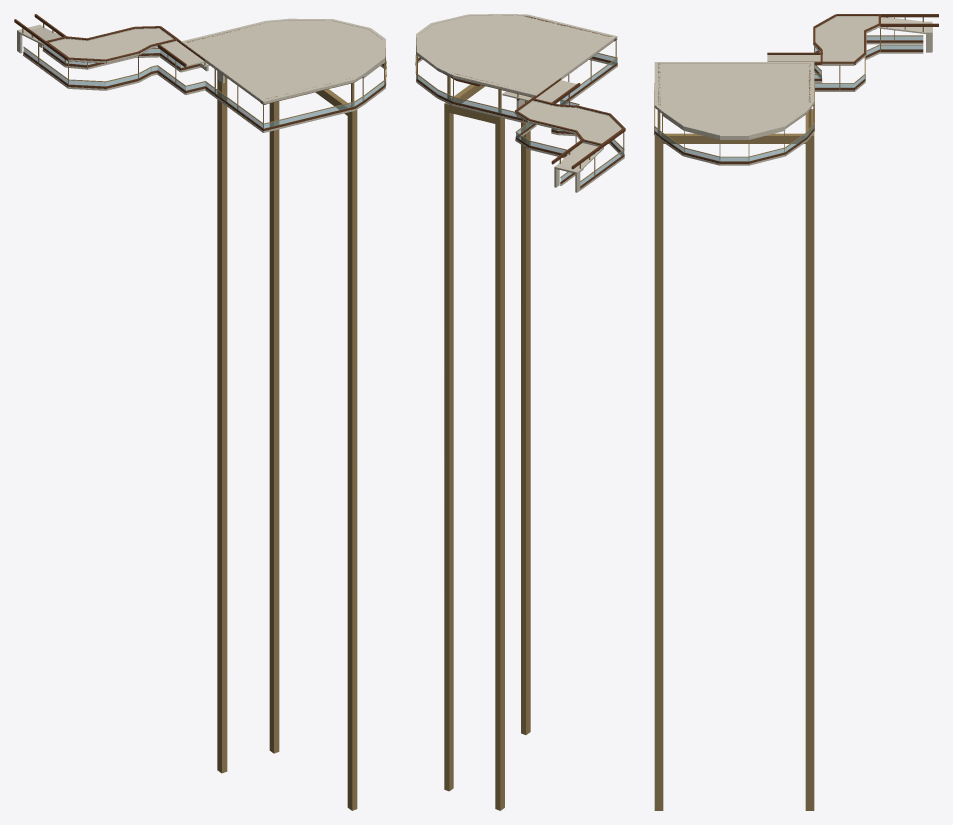
The model's file is AST-RES-006.glb.
3 renders of one model, left to right at view 1: azimuth 30°, elevation 25°; view 2: azimuth 150°, elevation 25°; view 3: azimuth 270°, elevation 25°, orthographic. The views are drawn at different scales.
Parts seen in each view (by area): view 1: CR_Batch_royalty_ivory_enamel, CR_Batch_D17_RoyaltyPier_Aft_champagne_metal, CR_Batch_D17_RoyaltyPier_WestFore_champagne_metal, CR_Batch_D17_RoyaltyPier_Fore_champagne_metal, CR_Batch_court_ivory_enamel, CR_Batch_lane_private_ivory_enamel, CR_Batch_court_warm_walnut, CR_Batch_lane_private_warm_walnut, CR_Batch_approach_warm_walnut, CR_Batch_approach_ivory_enamel; view 2: CR_Batch_royalty_ivory_enamel, CR_Batch_D17_RoyaltyPier_WestFore_champagne_metal, CR_Batch_D17_RoyaltyPier_Fore_champagne_metal, CR_Batch_D17_RoyaltyPier_Aft_champagne_metal, CR_Batch_court_ivory_enamel, CR_Batch_lane_private_ivory_enamel, CR_Batch_approach_ivory_enamel, CR_Batch_court_warm_walnut, CR_Batch_royalty_warm_walnut, CR_Batch_approach_warm_walnut, CR_Batch_royalty_HouseSmokedGlass, CR_Batch_lane_private_warm_walnut (+2 smaller); view 3: CR_Batch_royalty_ivory_enamel, CR_Batch_D17_RoyaltyPier_Fore_champagne_metal, CR_Batch_D17_RoyaltyPier_Aft_champagne_metal, CR_Batch_court_ivory_enamel, CR_Batch_D17_RoyaltyTransfer_champagne_metal, CR_Batch_approach_ivory_enamel, CR_Batch_approach_warm_walnut, CR_Batch_royalty_HouseSmokedGlass, CR_Batch_lane_private_ivory_enamel, CR_Batch_court_warm_walnut, CR_Batch_royalty_champagne_metal, CR_Batch_royalty_warm_walnut.
Part boxes in pixels (x1,y1,x2,y2): CR_Batch_royalty_ivory_enamel: (181,18,386,132); CR_Batch_D17_RoyaltyPier_Aft_champagne_metal: (347,116,357,807); CR_Batch_D17_RoyaltyPier_WestFore_champagne_metal: (217,72,227,763); CR_Batch_D17_RoyaltyPier_Fore_champagne_metal: (269,101,279,750); CR_Batch_court_ivory_enamel: (50,28,180,90); CR_Batch_lane_private_ivory_enamel: (106,40,266,132); CR_Batch_court_warm_walnut: (47,26,180,88); CR_Batch_lane_private_warm_walnut: (106,39,266,130); CR_Batch_approach_warm_walnut: (14,14,87,86); CR_Batch_approach_ivory_enamel: (17,24,68,88); CR_Batch_royalty_ivory_enamel: (415,14,617,124); CR_Batch_D17_RoyaltyPier_WestFore_champagne_metal: (495,122,504,800); CR_Batch_D17_RoyaltyPier_Fore_champagne_metal: (444,111,453,788); CR_Batch_D17_RoyaltyPier_Aft_champagne_metal: (521,101,530,732); CR_Batch_court_ivory_enamel: (514,100,621,169); CR_Batch_lane_private_ivory_enamel: (502,35,617,143); CR_Batch_approach_ivory_enamel: (554,141,624,192); CR_Batch_court_warm_walnut: (515,98,624,156); CR_Batch_royalty_warm_walnut: (415,16,617,122); CR_Batch_approach_warm_walnut: (551,128,625,188); CR_Batch_royalty_HouseSmokedGlass: (416,53,615,118); CR_Batch_lane_private_warm_walnut: (516,41,617,131); CR_Batch_royalty_ivory_enamel: (654,62,814,165); CR_Batch_D17_RoyaltyPier_Fore_champagne_metal: (805,144,814,808); CR_Batch_D17_RoyaltyPier_Aft_champagne_metal: (654,144,663,808); CR_Batch_court_ivory_enamel: (813,16,880,91); CR_Batch_D17_RoyaltyTransfer_champagne_metal: (654,133,814,143); CR_Batch_approach_ivory_enamel: (866,16,932,53); CR_Batch_approach_warm_walnut: (836,14,938,57); CR_Batch_royalty_HouseSmokedGlass: (654,125,814,161); CR_Batch_lane_private_ivory_enamel: (657,28,821,82); CR_Batch_court_warm_walnut: (813,14,879,90); CR_Batch_royalty_champagne_metal: (654,80,814,157); CR_Batch_royalty_warm_walnut: (654,63,814,163).
Bounding box in the file's own units: 39.86 × 108 × 39.23.
Materials: 5 (3 with a texture image).
